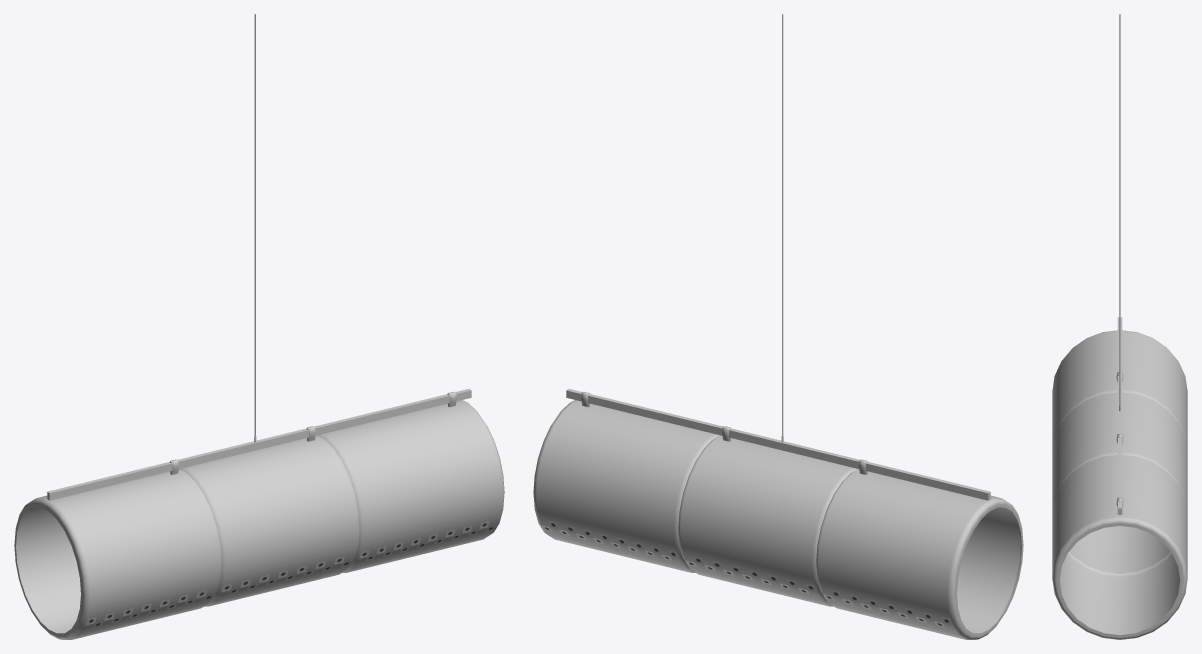
The model's file is SM_Duct_FabricChute_300_A.fbx.
The picture shows the model from 3 angles, left to right: view 1: azimuth 30°, elevation 25°; view 2: azimuth 150°, elevation 25°; view 3: azimuth 270°, elevation 25°; orthographic projection. The views are drawn at different scales.
Visible parts, largest first — view 1: SM_Duct_FabricChute_300_A_LOD0; view 2: SM_Duct_FabricChute_300_A_LOD0; view 3: SM_Duct_FabricChute_300_A_LOD0.
Part boxes in pixels (x1=…): SM_Duct_FabricChute_300_A_LOD0: x1=14, y1=14, x2=504, y2=639; SM_Duct_FabricChute_300_A_LOD0: x1=533, y1=14, x2=1023, y2=639; SM_Duct_FabricChute_300_A_LOD0: x1=1052, y1=14, x2=1187, y2=639.
Size of the model in its own units: 300 by 90 by 389.
Materials: 3 (1 with a texture image).
